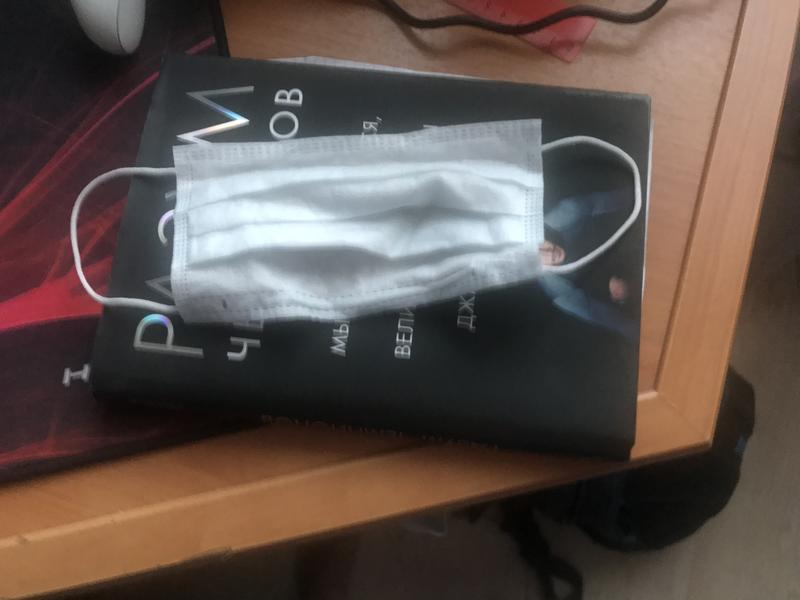medical_mask: (70, 121, 643, 319)
